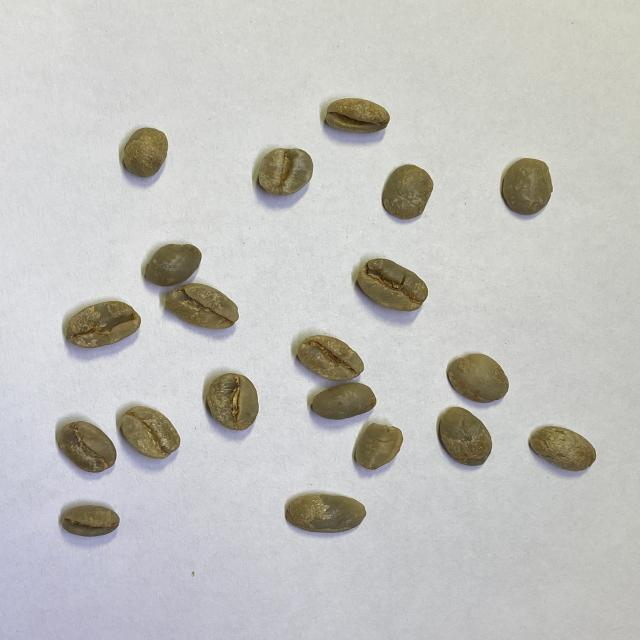bad: (358, 258, 428, 311), (354, 422, 403, 470)
good: (284, 492, 368, 534), (118, 405, 182, 460), (438, 405, 494, 467), (167, 285, 240, 332), (67, 301, 141, 347), (57, 420, 118, 475), (298, 334, 366, 382), (530, 425, 598, 473), (448, 352, 510, 404), (206, 372, 259, 432), (381, 163, 434, 220), (501, 158, 553, 216), (258, 148, 313, 197), (122, 127, 170, 179), (326, 98, 390, 137), (312, 383, 378, 420), (146, 242, 202, 285), (61, 505, 120, 537)
